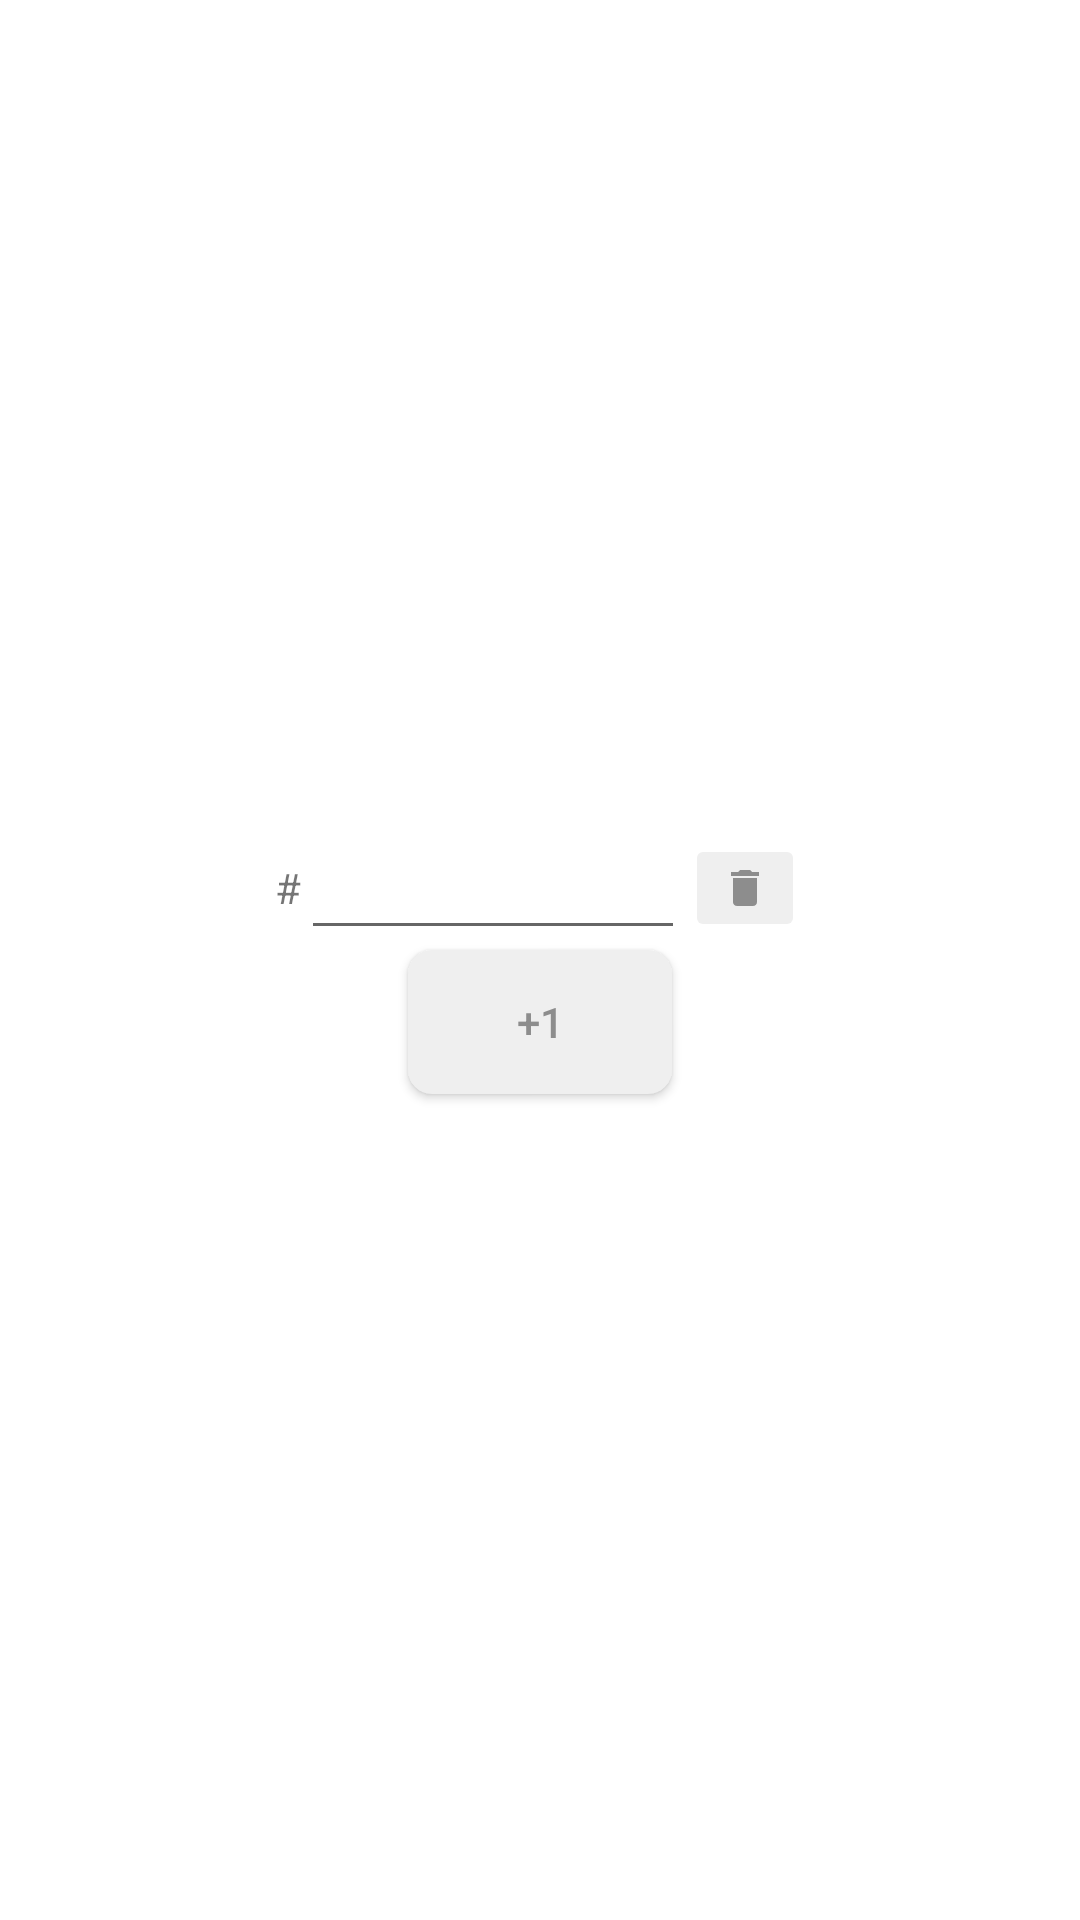

Named icons in this screenshot (1080 × 1920) and their bounding boxes, [x1,y1,x2,y2]:
delete primarydark: [731,870,759,906]
